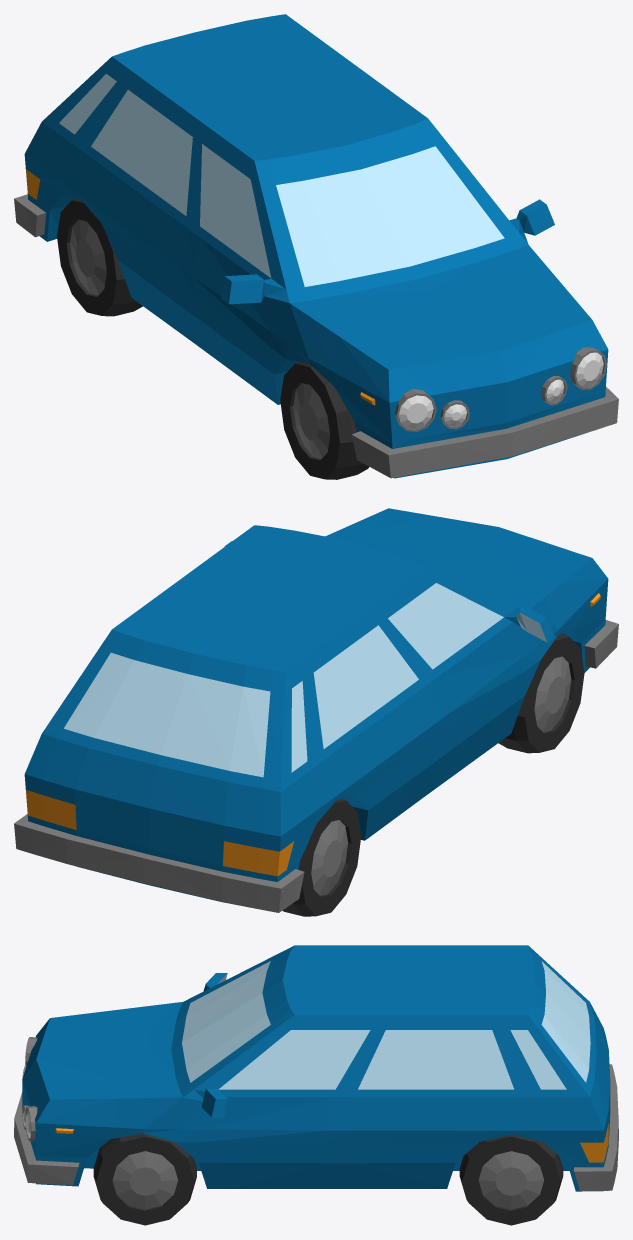
Rendered from bluecar.obj.
3 renders of one model, top to bottom at view 1: azimuth 30°, elevation 25°; view 2: azimuth 150°, elevation 25°; view 3: azimuth 270°, elevation 25°, orthographic. The views are drawn at different scales.
Parts seen in each view (by area): view 1: Car; view 2: Car; view 3: Car.
Part boxes in pixels (<box>): Car: <box>14,14,618,479</box>; Car: <box>14,508,618,916</box>; Car: <box>14,945,618,1225</box>.
Bounding box in the file's own units: 45.5 × 32.33 × 89.11.
1 material, 1 textured.
